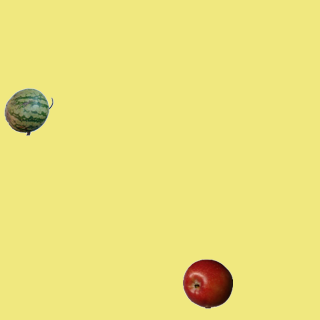Apple Braeburn: (182, 258, 232, 308)
Watermelon: (3, 86, 53, 136)
